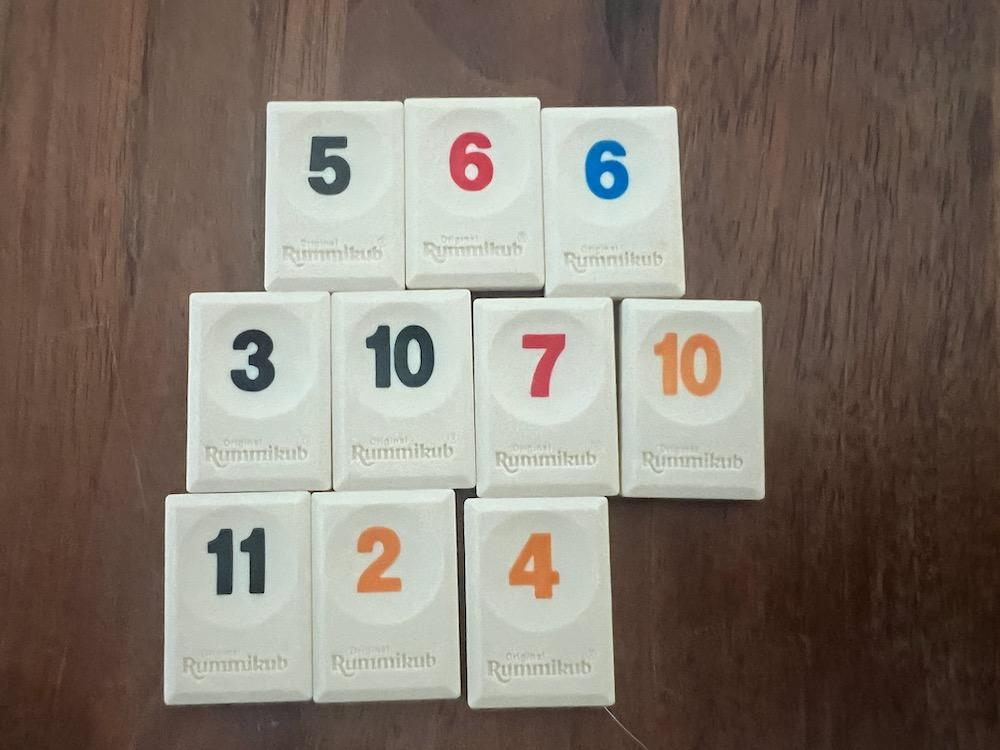black_10: (334, 289, 474, 490)
black_11: (164, 493, 312, 705)
black_3: (188, 293, 330, 492)
black_5: (264, 102, 403, 291)
blue_6: (541, 109, 686, 299)
orange_10: (621, 299, 766, 498)
orange_2: (314, 491, 461, 703)
orange_4: (465, 496, 615, 709)
red_6: (406, 100, 545, 291)
red_7: (475, 297, 619, 495)
